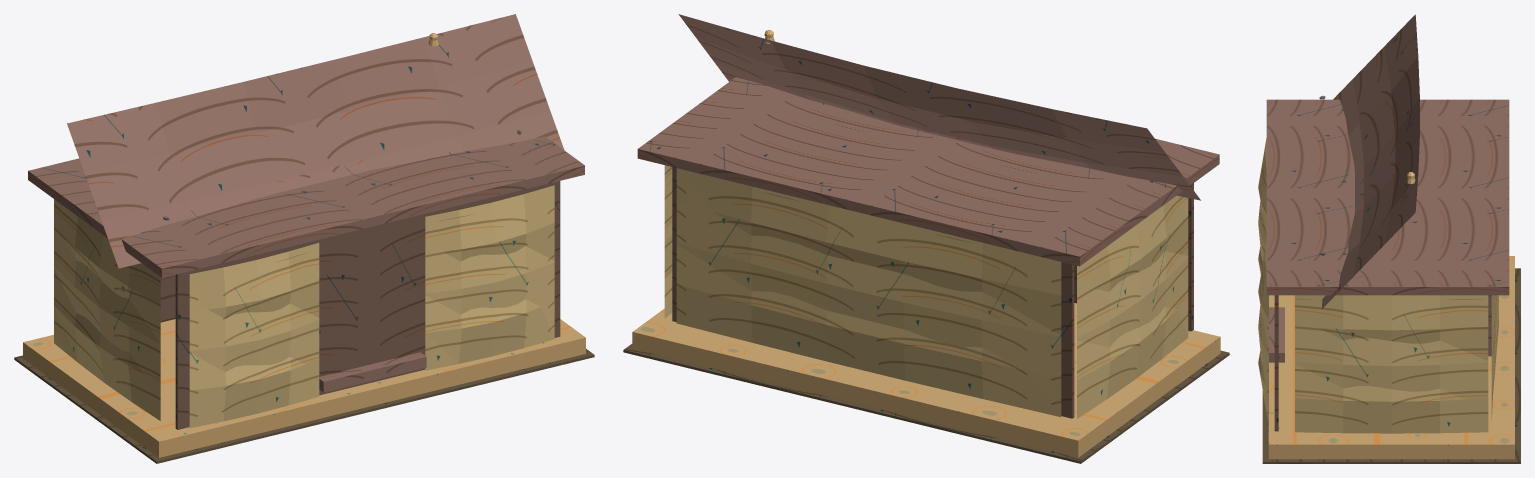
File: env_shelter_distant_a.glb
3 views of the same model, side by side, from view 1: azimuth 30°, elevation 25°; view 2: azimuth 150°, elevation 25°; view 3: azimuth 270°, elevation 25° (orthographic). The views are drawn at different scales.
Parts seen in each view (by area): view 1: lod0__shelter_shell, lod1__shelter_shell, lod0__shelter_clay; view 2: lod0__shelter_shell, lod1__shelter_shell, lod0__shelter_clay; view 3: lod0__shelter_shell, lod0__shelter_clay, lod1__shelter_shell.
Boxes of the visible parts, x1=… form: lod0__shelter_shell: x1=14, y1=14, x2=594, y2=463; lod1__shelter_shell: x1=54, y1=186, x2=554, y2=427; lod0__shelter_clay: x1=23, y1=33, x2=585, y2=457; lod0__shelter_shell: x1=623, y1=14, x2=1229, y2=463; lod1__shelter_shell: x1=664, y1=165, x2=1188, y2=418; lod0__shelter_clay: x1=632, y1=30, x2=1220, y2=457; lod0__shelter_shell: x1=1258, y1=14, x2=1520, y2=463; lod0__shelter_clay: x1=1268, y1=172, x2=1514, y2=459; lod1__shelter_shell: x1=1258, y1=138, x2=1498, y2=433.
Size of the model in its own units: 6.1 by 3.68 by 3.41.
Materials: 3 (2 with a texture image).
